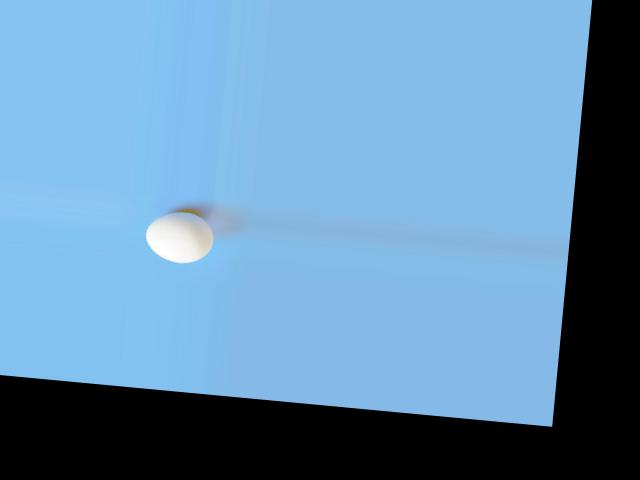egg: (143, 208, 216, 265)
